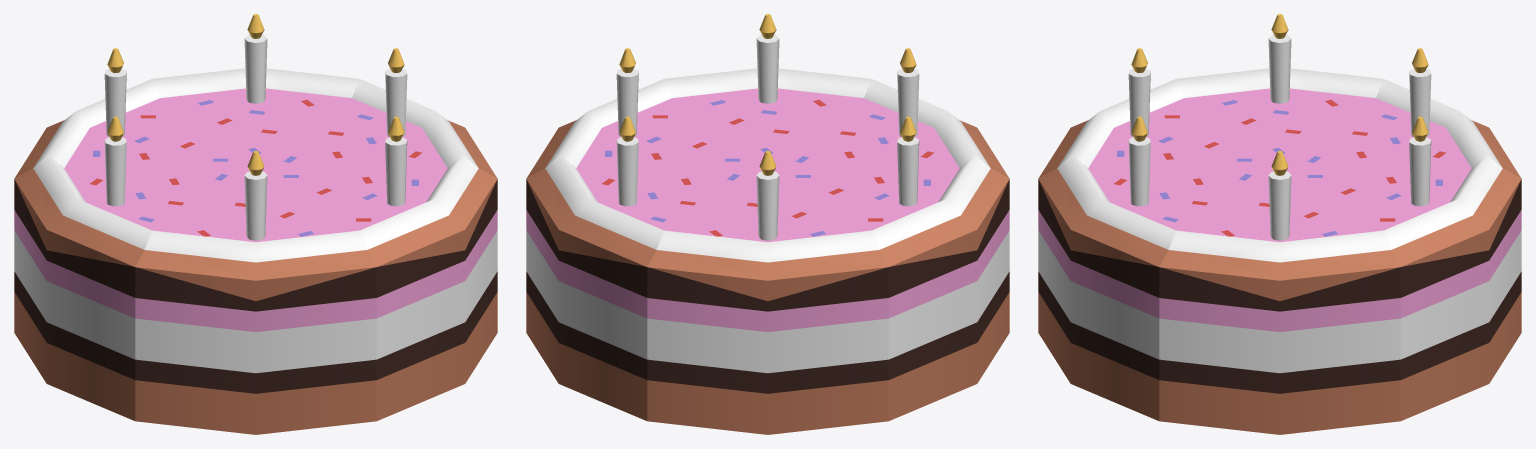
File: cakeBirthday.dae
3 renders of one model, left to right at view 1: azimuth 30°, elevation 25°; view 2: azimuth 150°, elevation 25°; view 3: azimuth 270°, elevation 25°, orthographic.
Visible parts, largest first — view 1: slice (×6); view 2: slice (×6); view 3: slice (×6).
Boxes of the visible parts, x1,y1,x2,y2 form: slice (×6): (14, 14, 497, 434); slice (×6): (526, 14, 1009, 434); slice (×6): (1038, 14, 1521, 434).
Bounding box in the file's own units: 0.6392 × 0.3638 × 0.6392.
